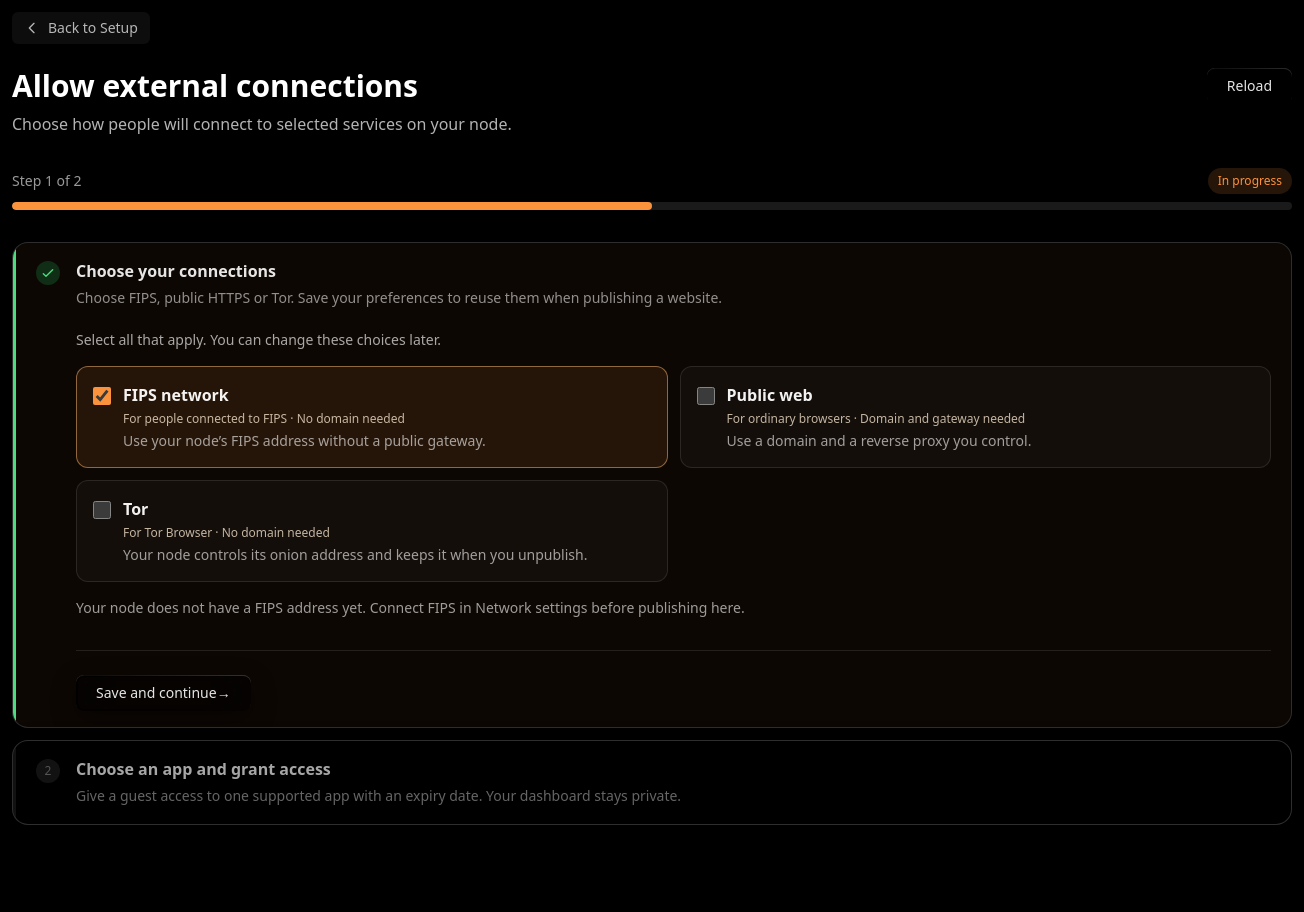
Scenario: publishing setup › keeps a failed save visible and does not pretend it succeeded
Click the button "Save and continue →": (163, 693) [76, 675, 251, 711]
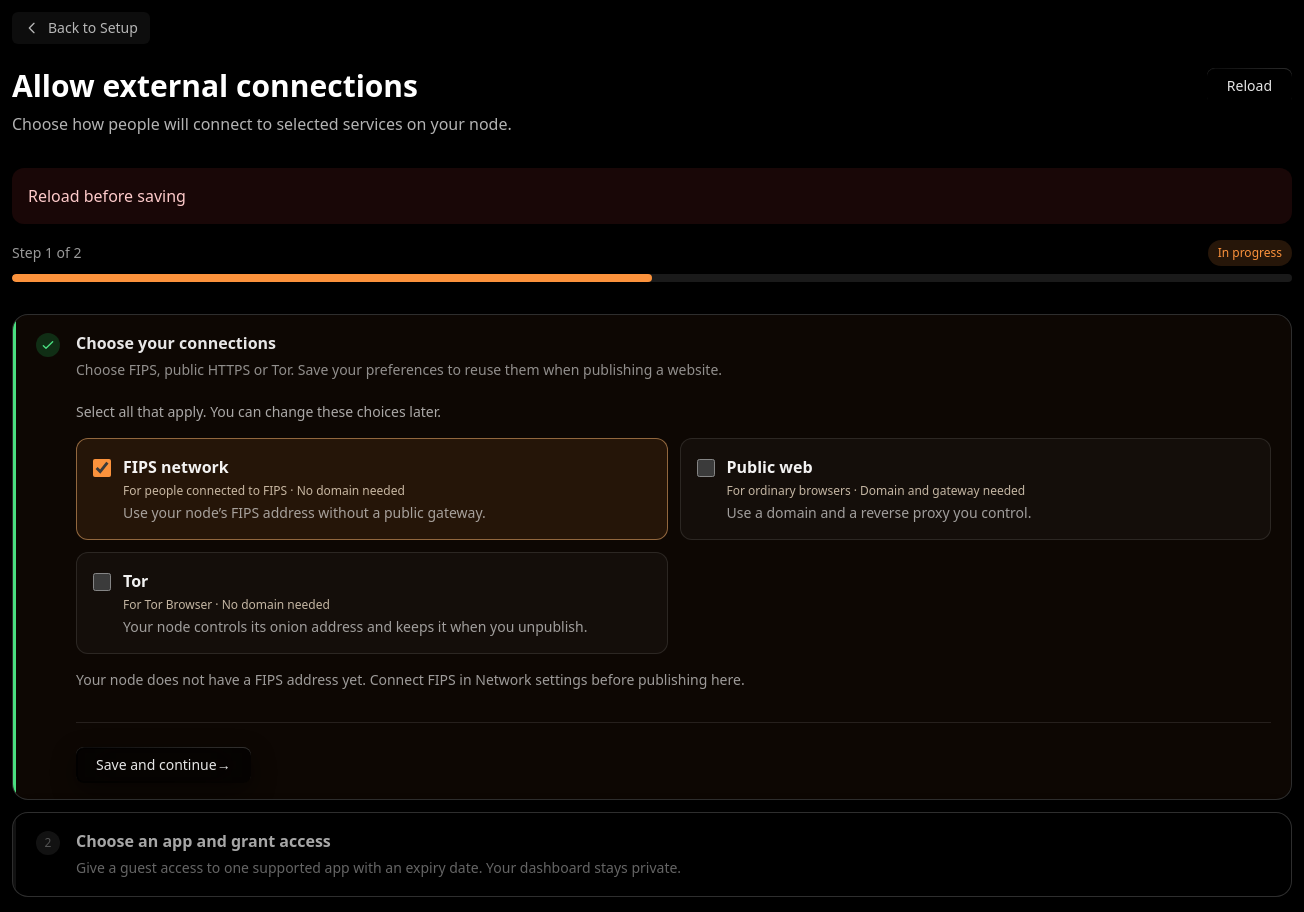
Result: the message "Reload before saving" is shown at [12, 168, 1292, 224]
